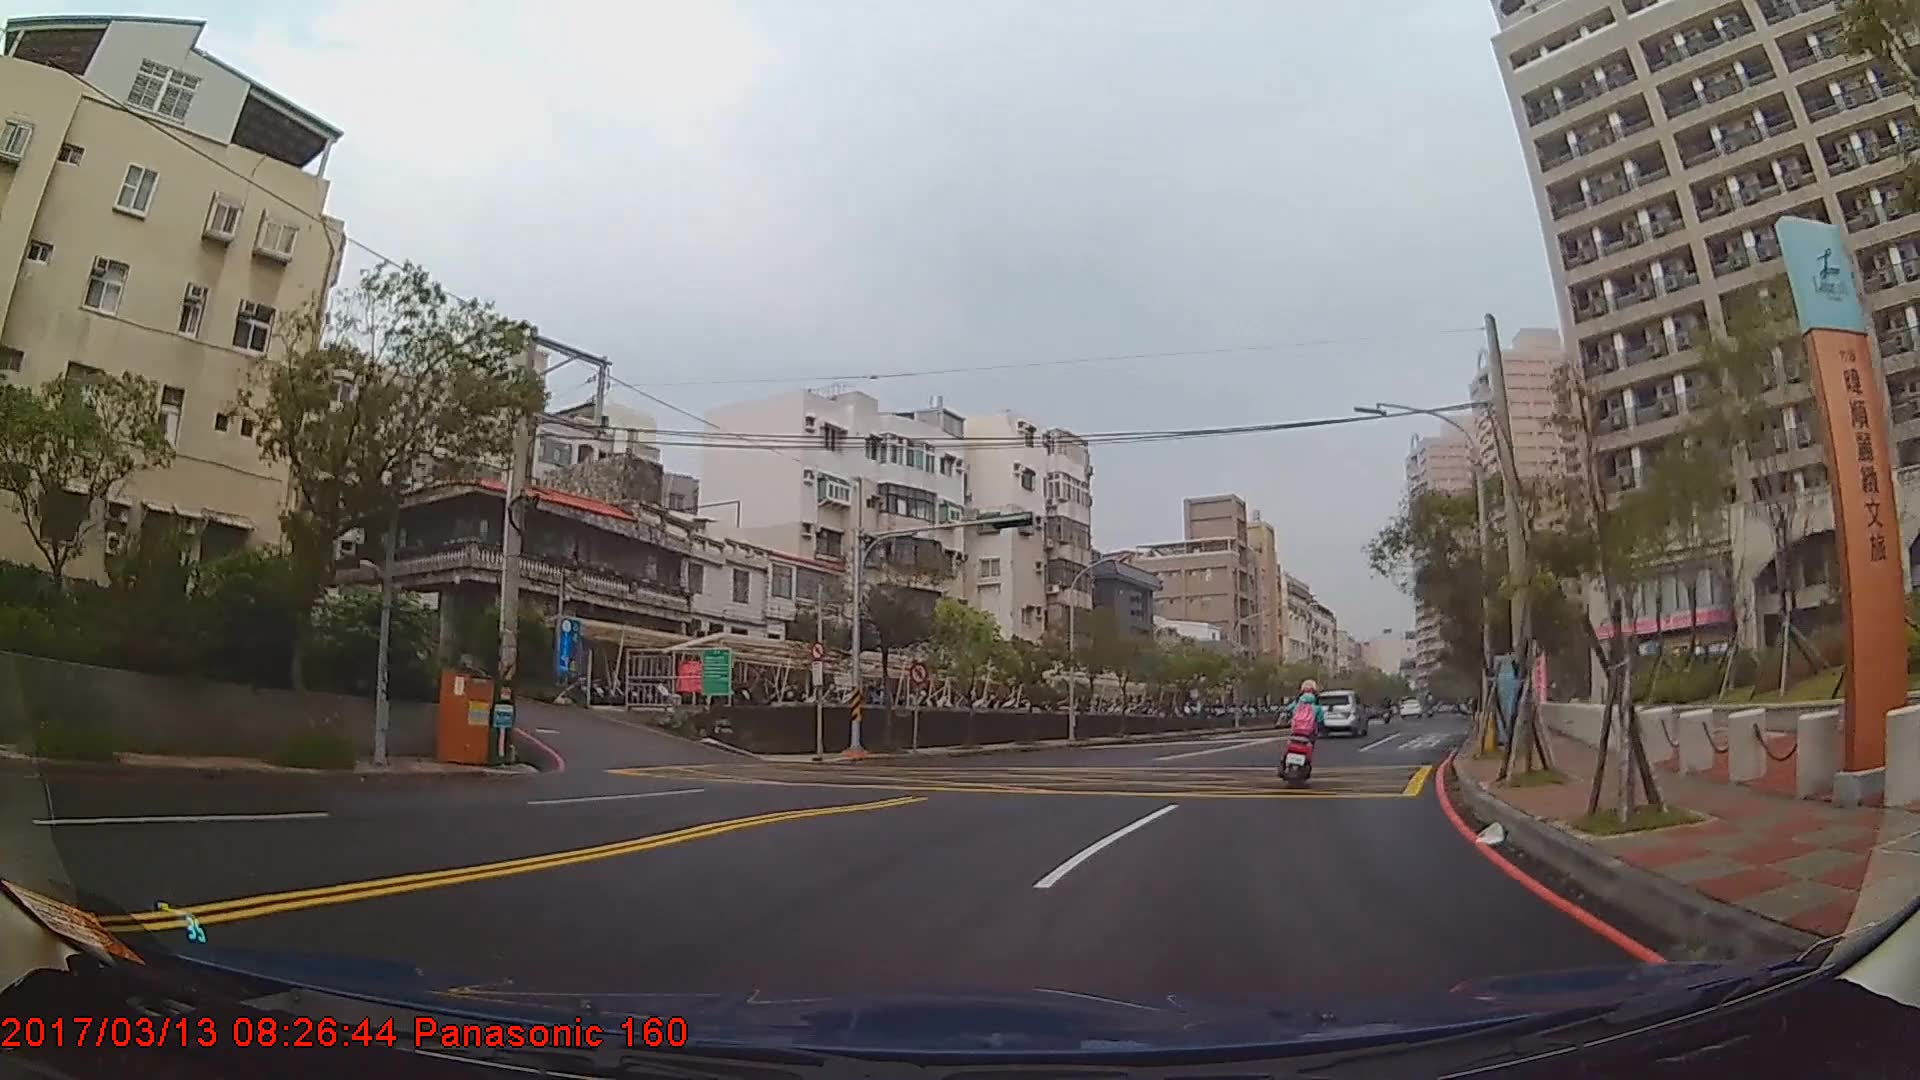rider: (1280, 679, 1329, 787)
vehicle: (1307, 688, 1372, 737)
